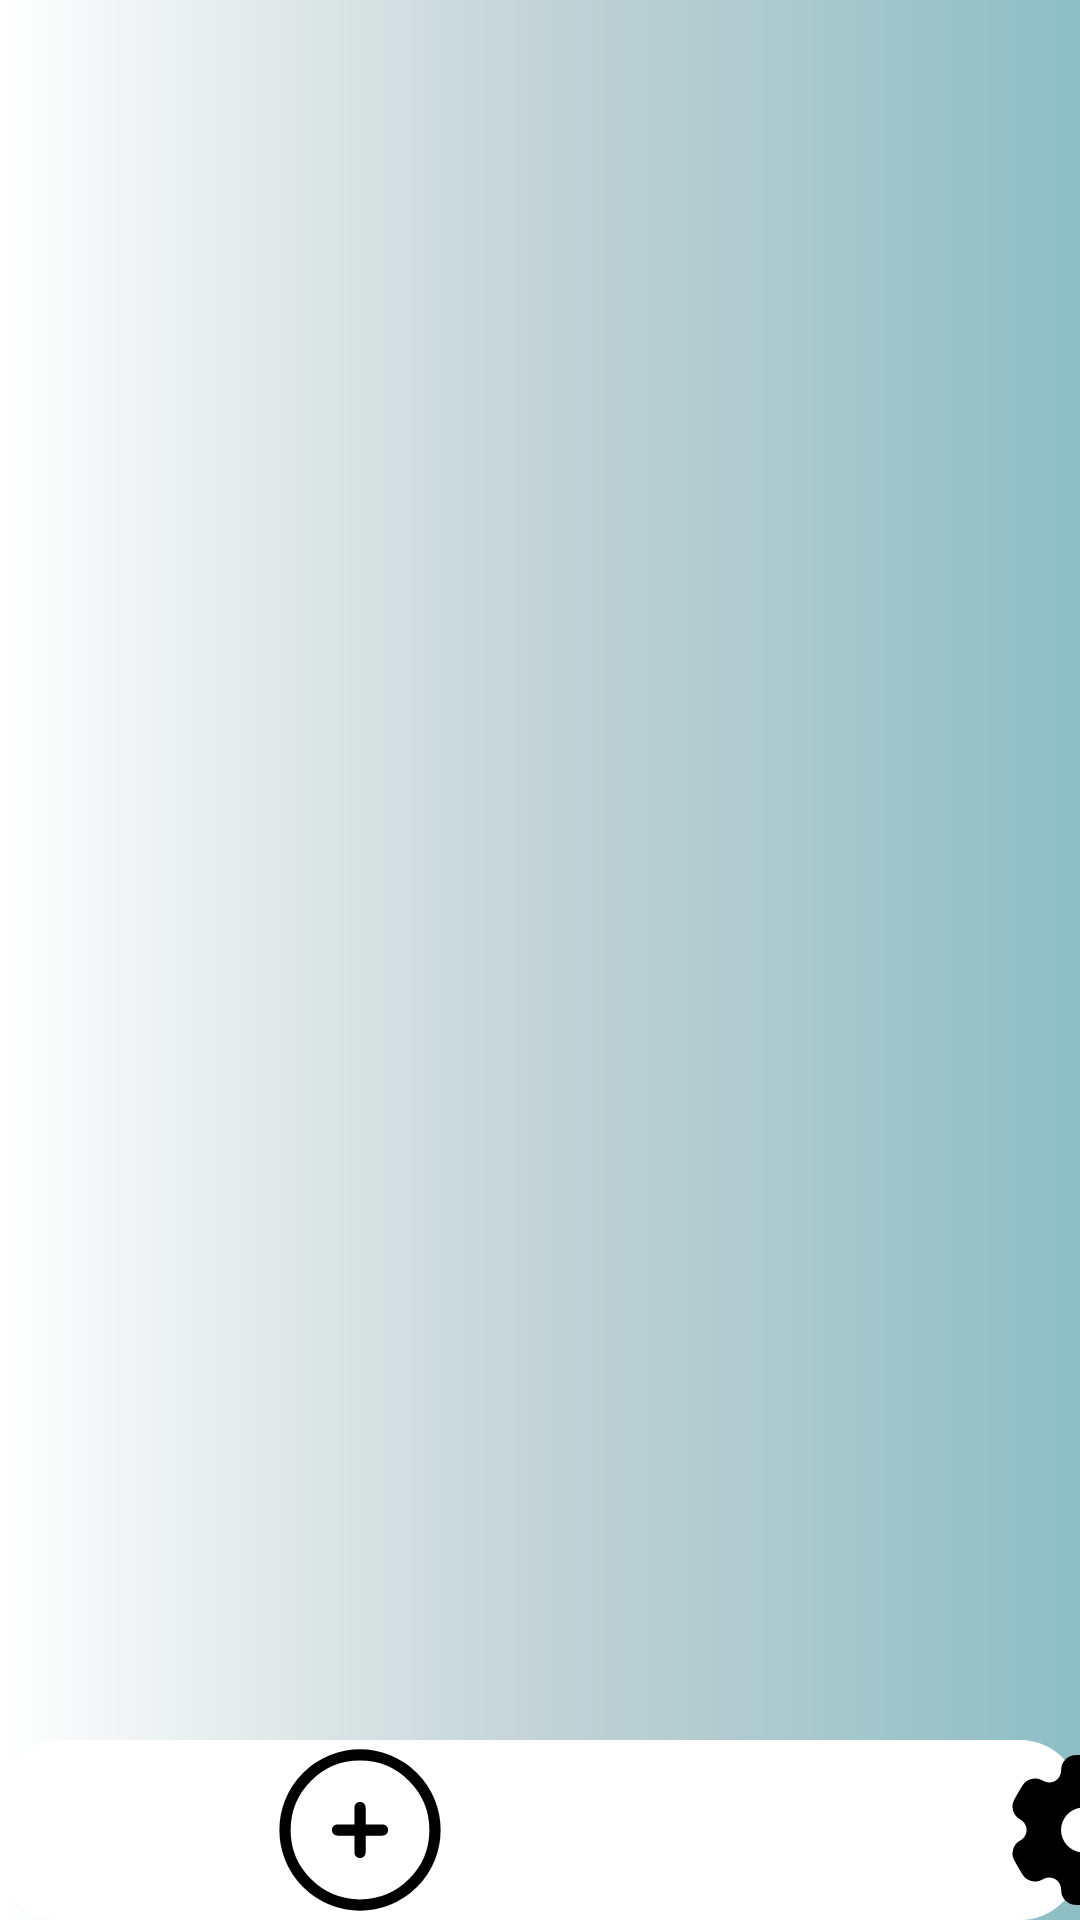

Named icons in this screenshot (1080px×1920px) and their centers, [x,y]:
add: [360,1830]
